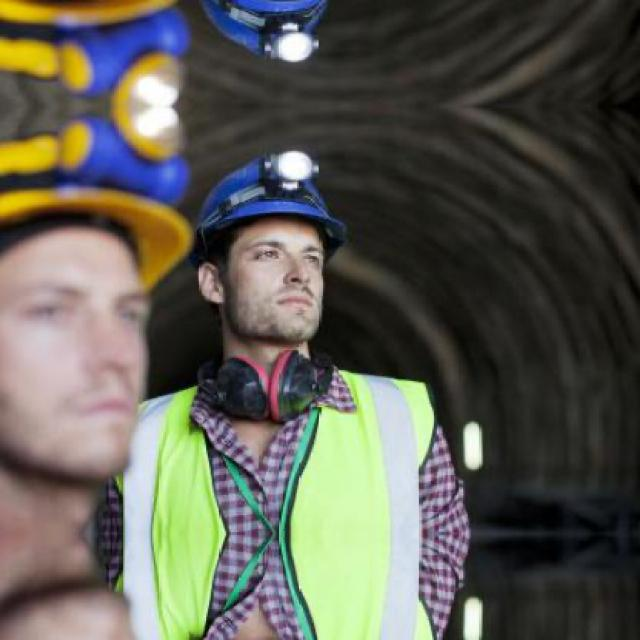2: (132, 156, 446, 532), (131, 535, 446, 639)
helmet: (1, 127, 188, 490), (197, 163, 357, 361), (2, 0, 189, 88), (195, 0, 357, 51)
